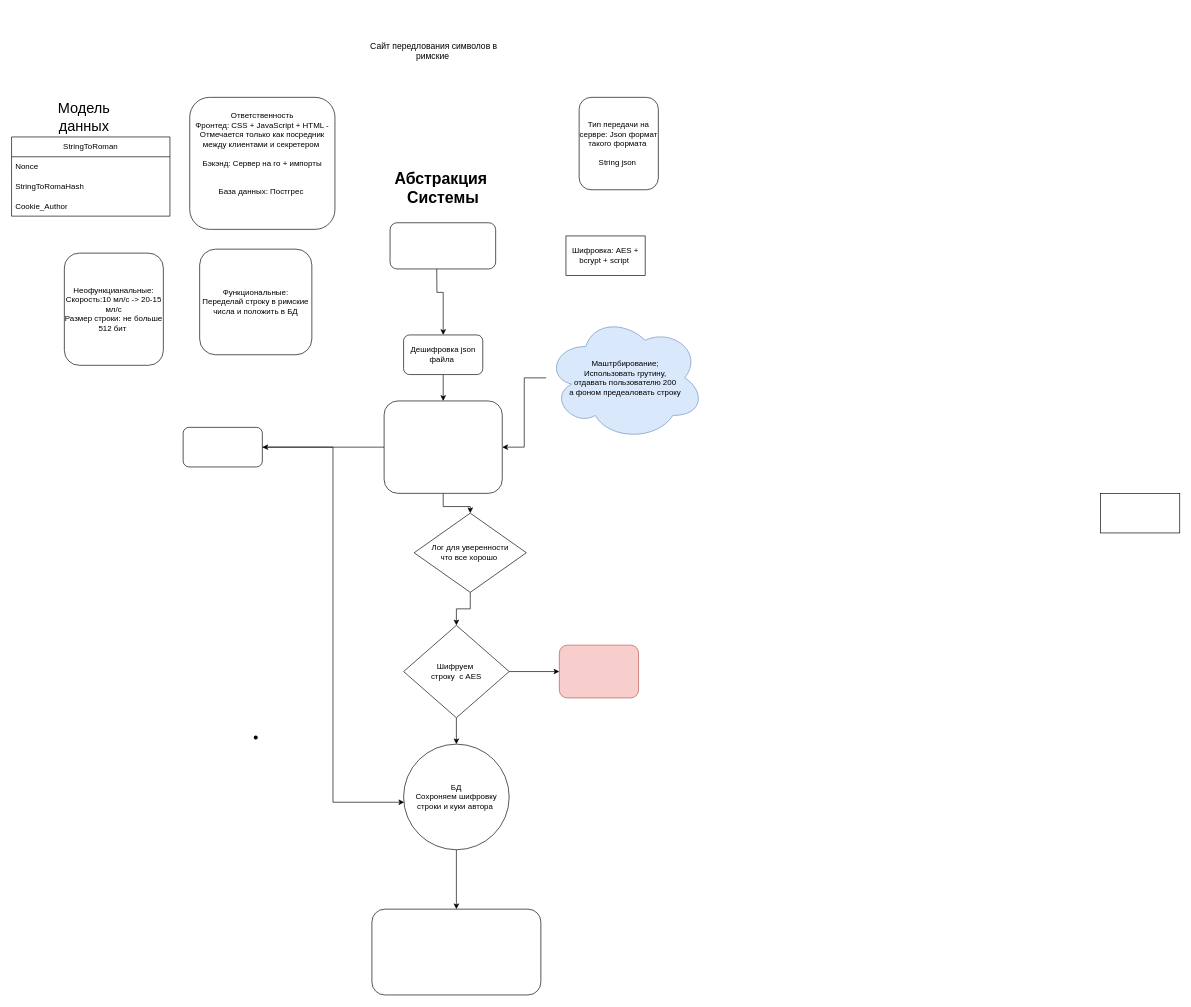
The diagram is 1191 pixels wide and 1007 high, and some of its shapes have lost their labels. Here are the shapes that lost their labels. From the top down, the centre of each, then its label:
(442,245): Стока в ввиде json
(222,447): подтягиваем куки автора которое мы положили при логини
(442,446): Бэкэнд: Преврощание строку в римское строку
(599,671): Ошибка: Отдаем 301
(456,951): Отдаем status OK
